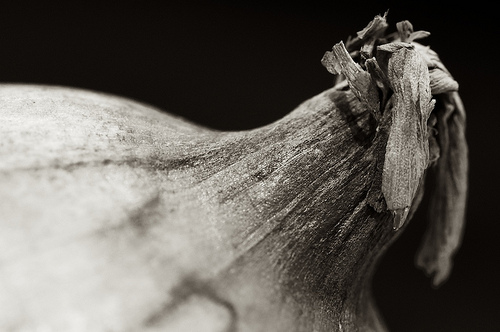onion: (1, 14, 469, 331)
